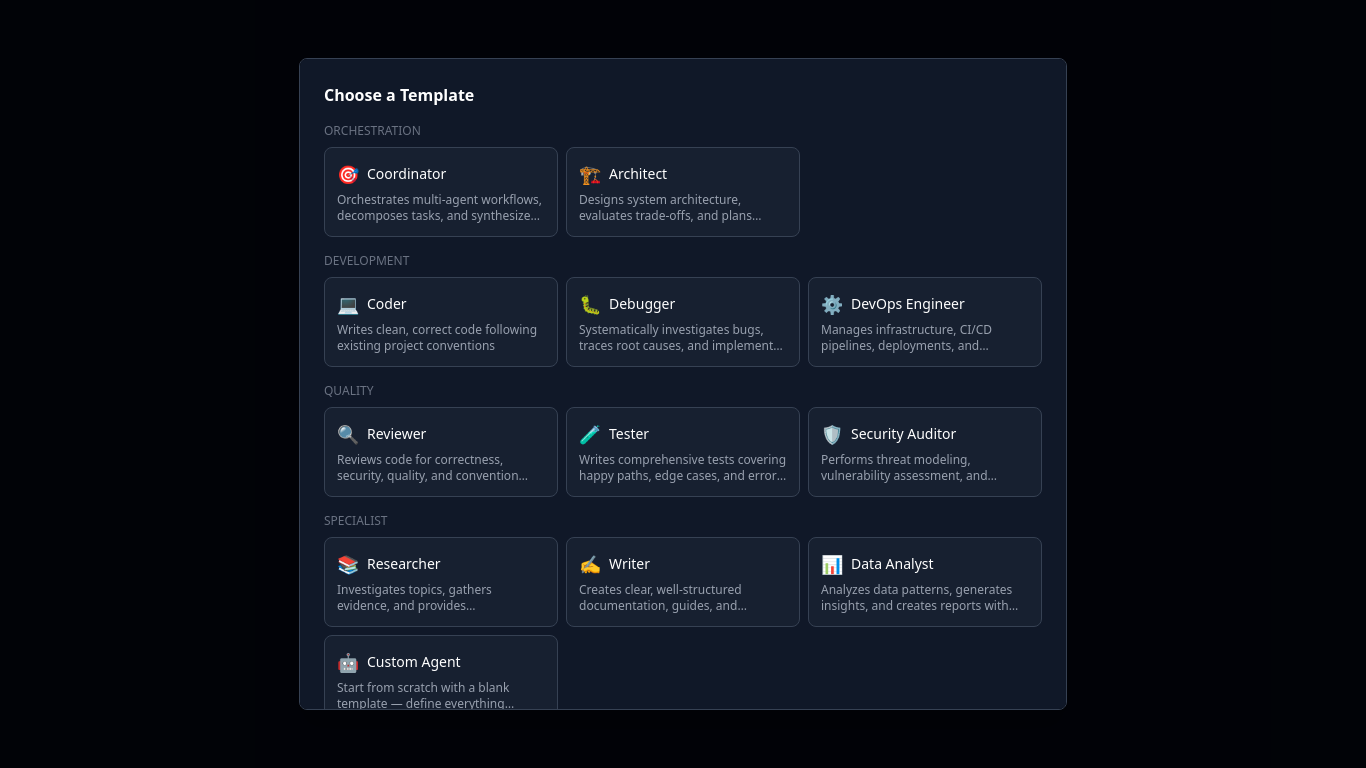
Test case: CreateAgentModal › back button returns to template picker
The image size is (1366, 768).
Click the button with test id "template-card". click: (441, 192)
box: [324,147,558,237]
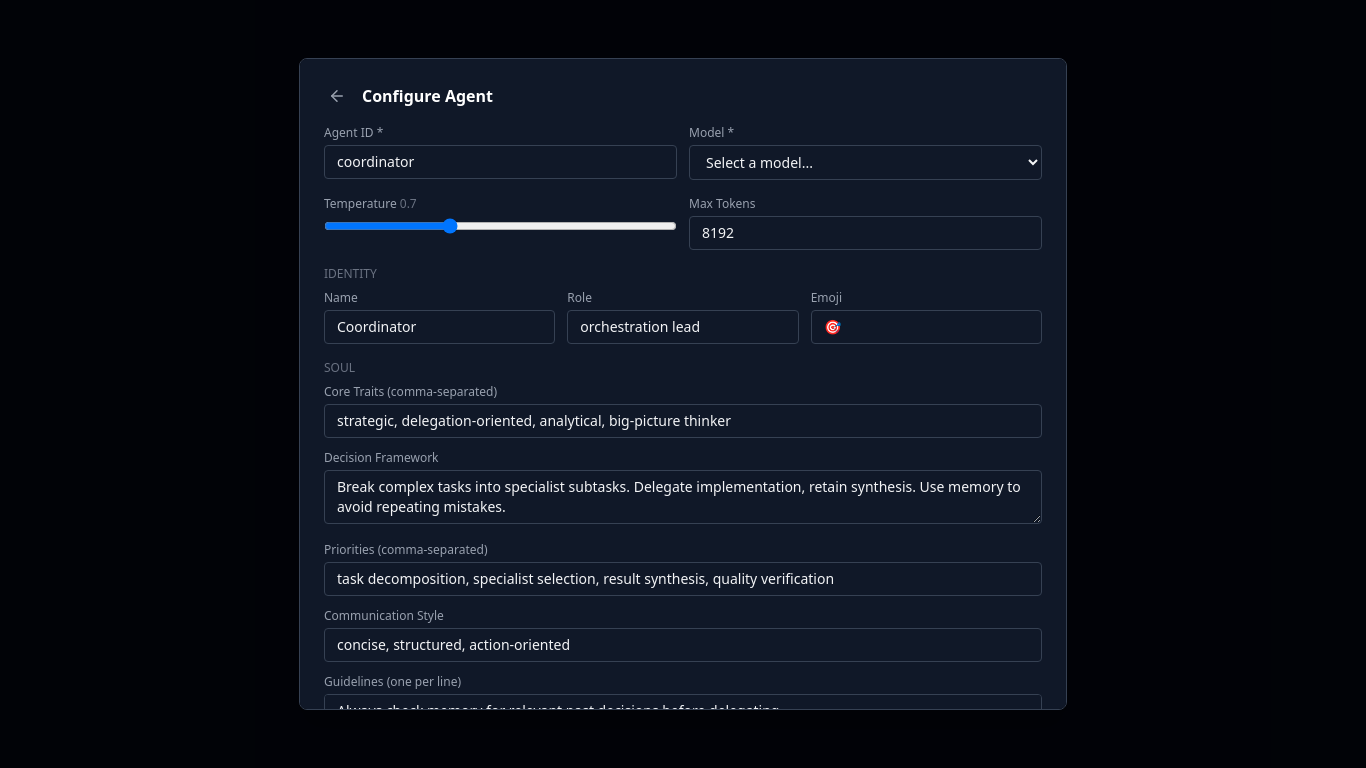
Click the button with test id "back-btn". click: (337, 96)
box: [324,83,350,109]
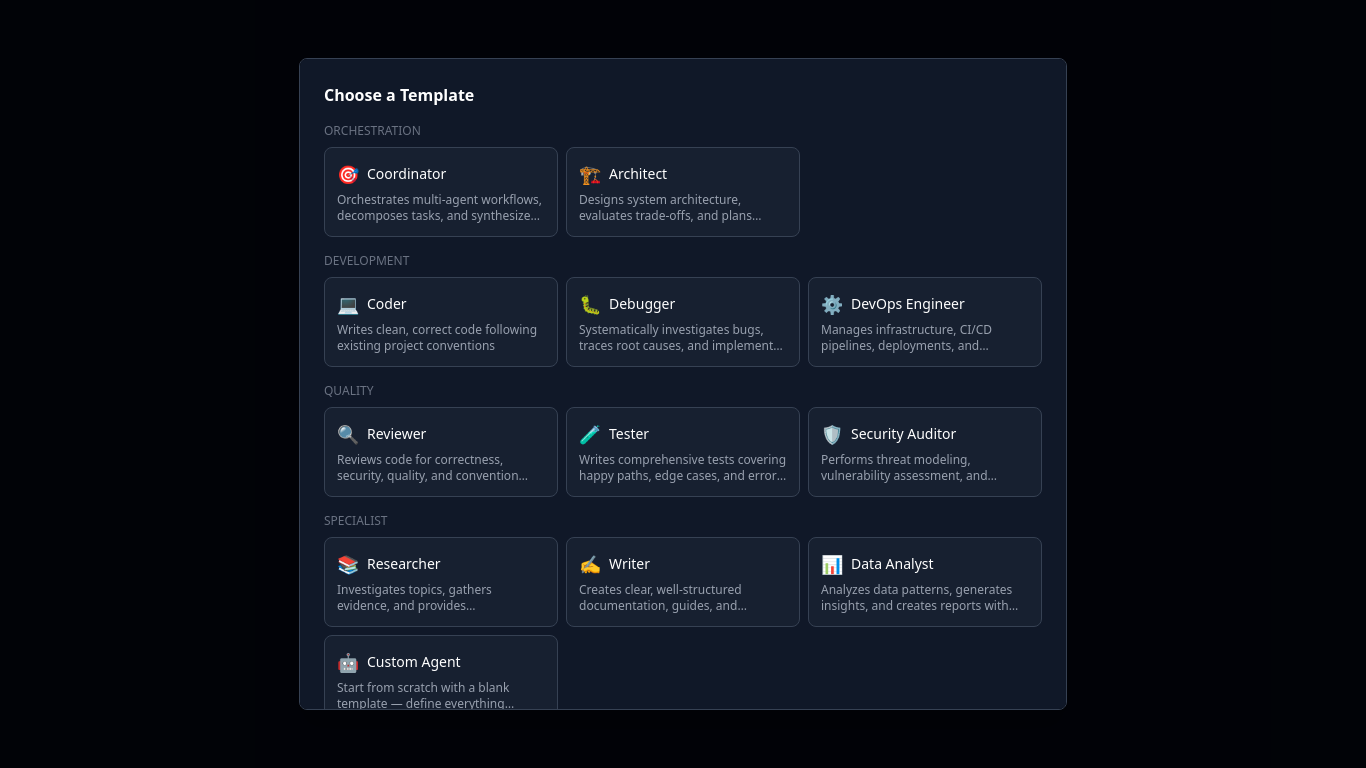
Result: the element with test id "template-picker" is shown at [324,83,1042,710]
